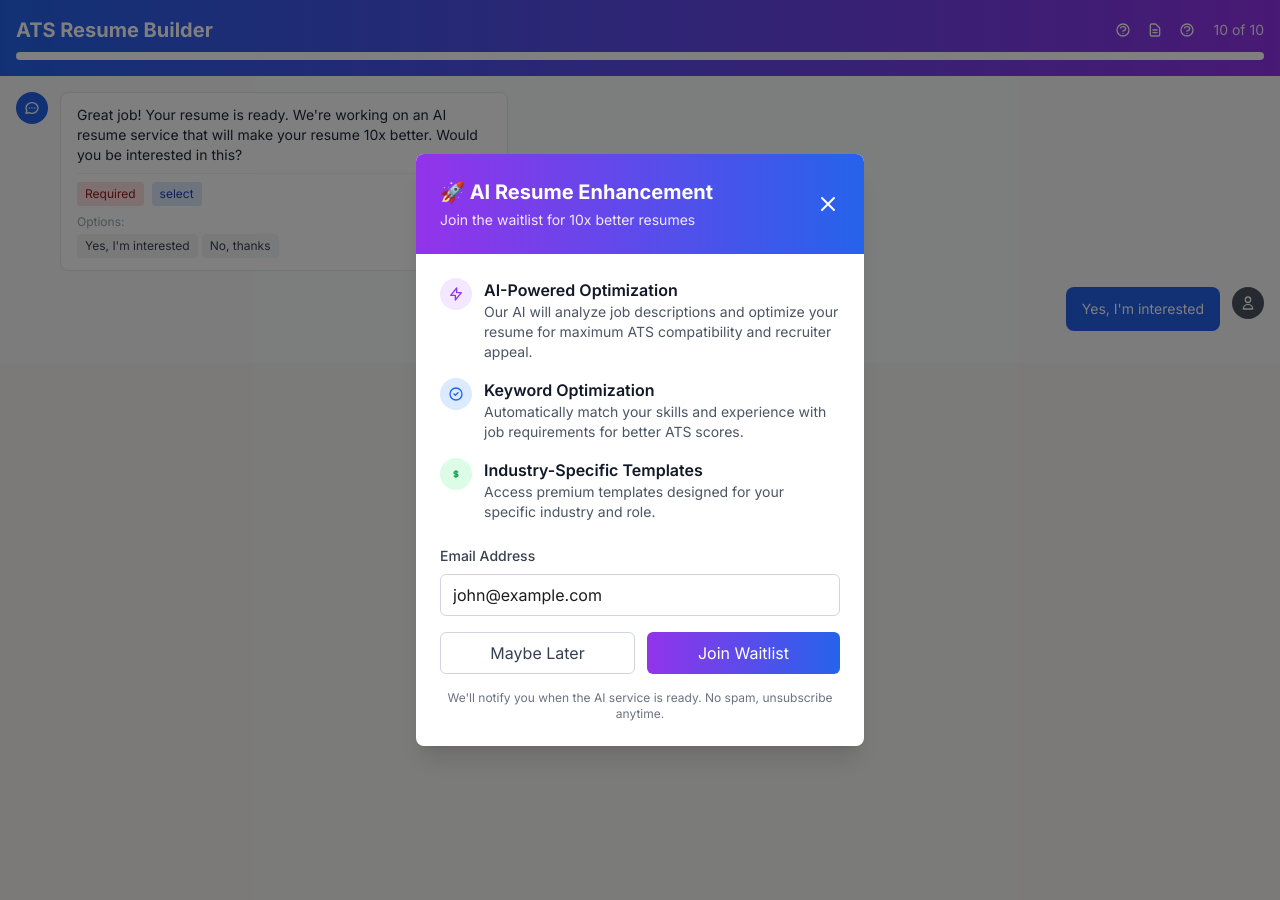
Test: ChatbotInterface AI Upsell Integration › submits AI interest email and shows thank you modal
Expected: the heading "🚀 AI Resume Enhancement" is shown, [440,178,713,206]
// Fill in email and submit
Replace the text in the field labelled "Email Address" with "test@example.com" at (640, 595), box [440,574,840,616]
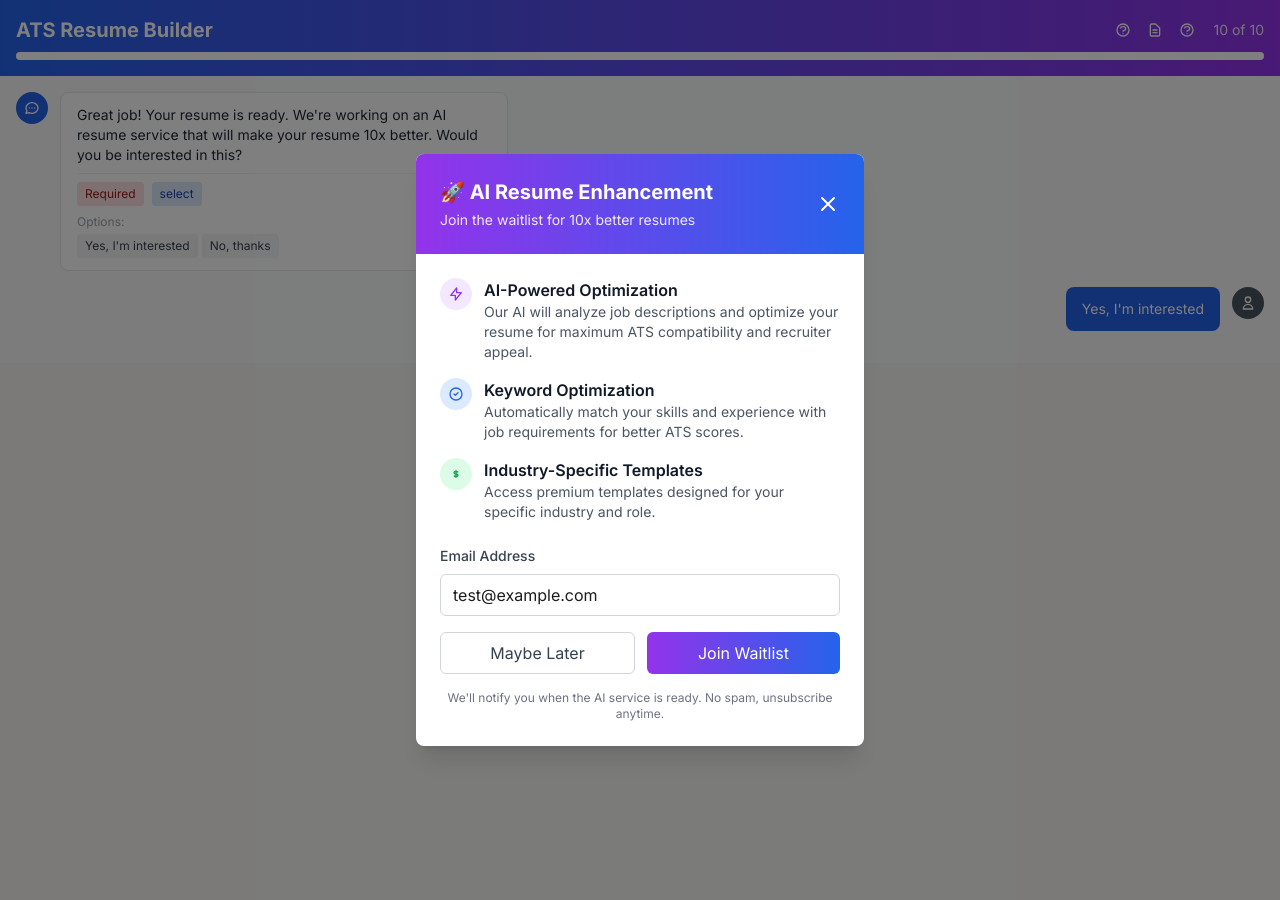
Click the button "Join Waitlist" at (744, 653), box [647,632,840,674]
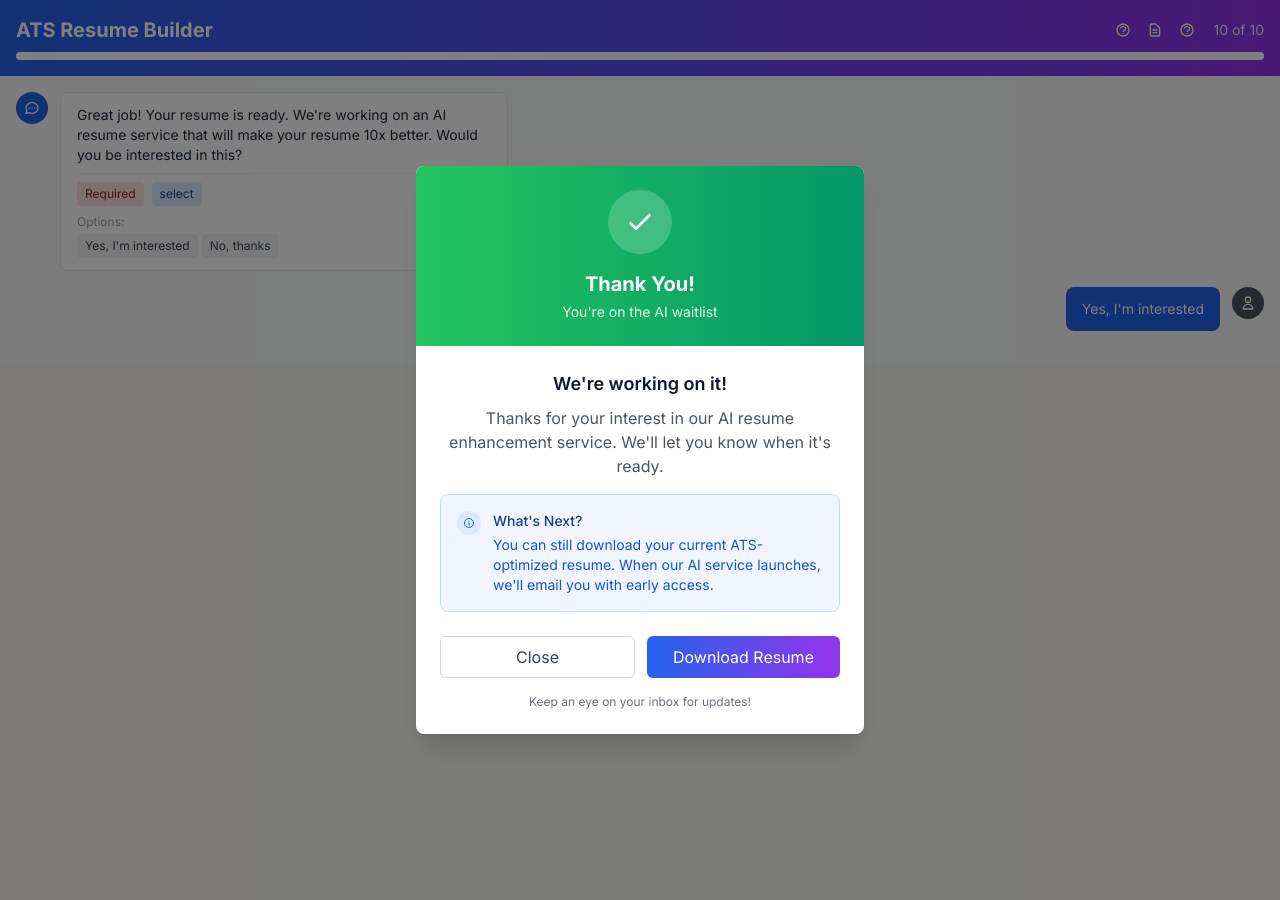
Result: the heading "Thank You!" is shown at [585,272,695,296]
Result: the text "You're on the AI waitlist" is shown at [562,303,718,320]
Result: the heading "We're working on it!" is shown at [553,373,727,394]
